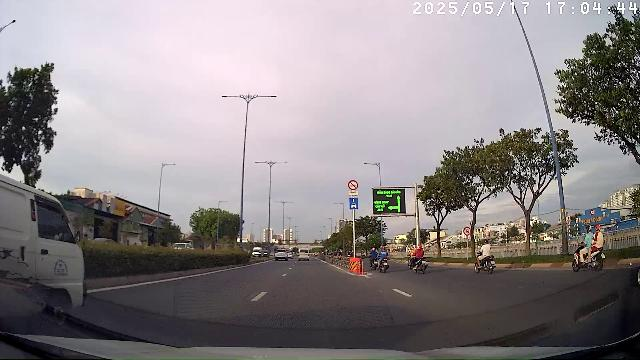103a-cam-oto: (463, 227, 471, 236)
